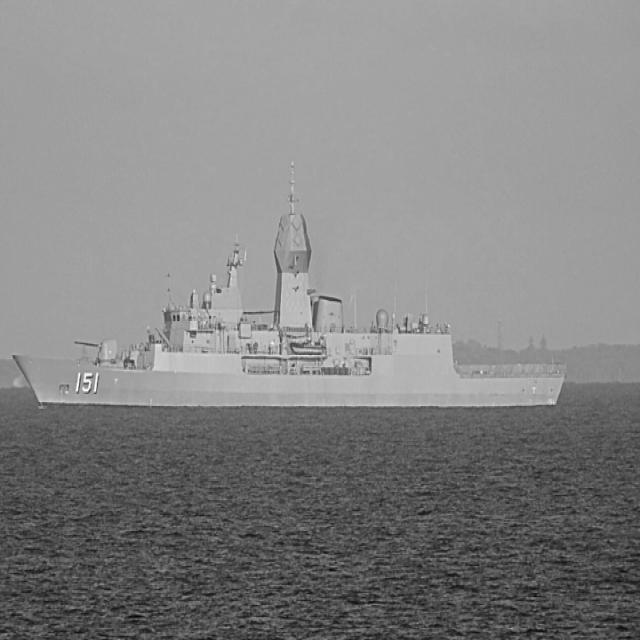Fragata: (7, 166, 570, 410)
